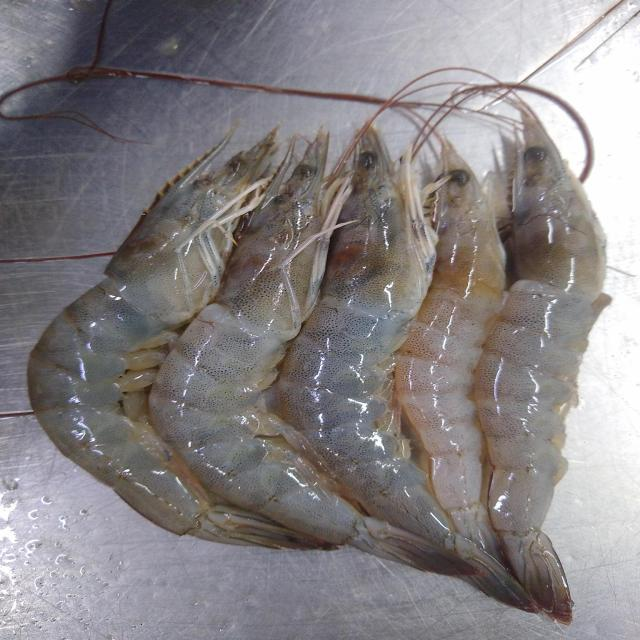shrimp: (28, 126, 320, 549), (150, 132, 362, 545), (278, 129, 453, 545), (475, 106, 608, 622), (395, 140, 505, 559)
